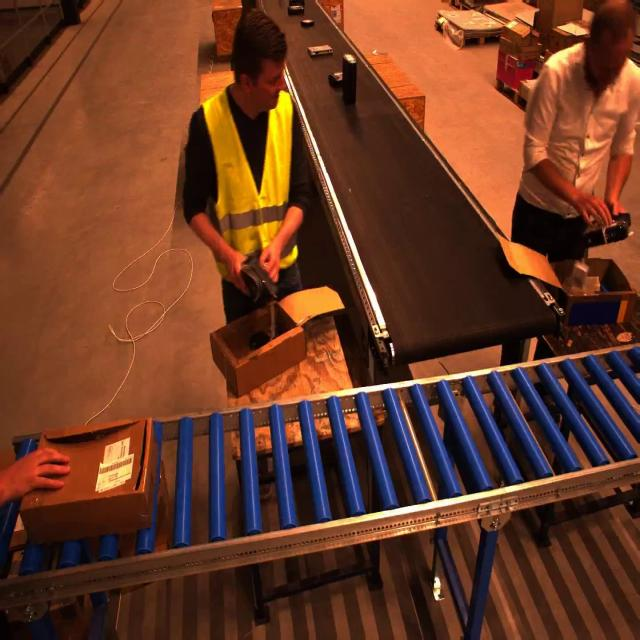box: (29, 434, 155, 528), (530, 229, 631, 335), (207, 291, 308, 386)
product: (576, 211, 637, 250), (342, 49, 358, 106), (325, 70, 355, 91), (308, 44, 335, 57), (300, 18, 318, 29), (288, 5, 306, 16), (287, 0, 306, 8)
